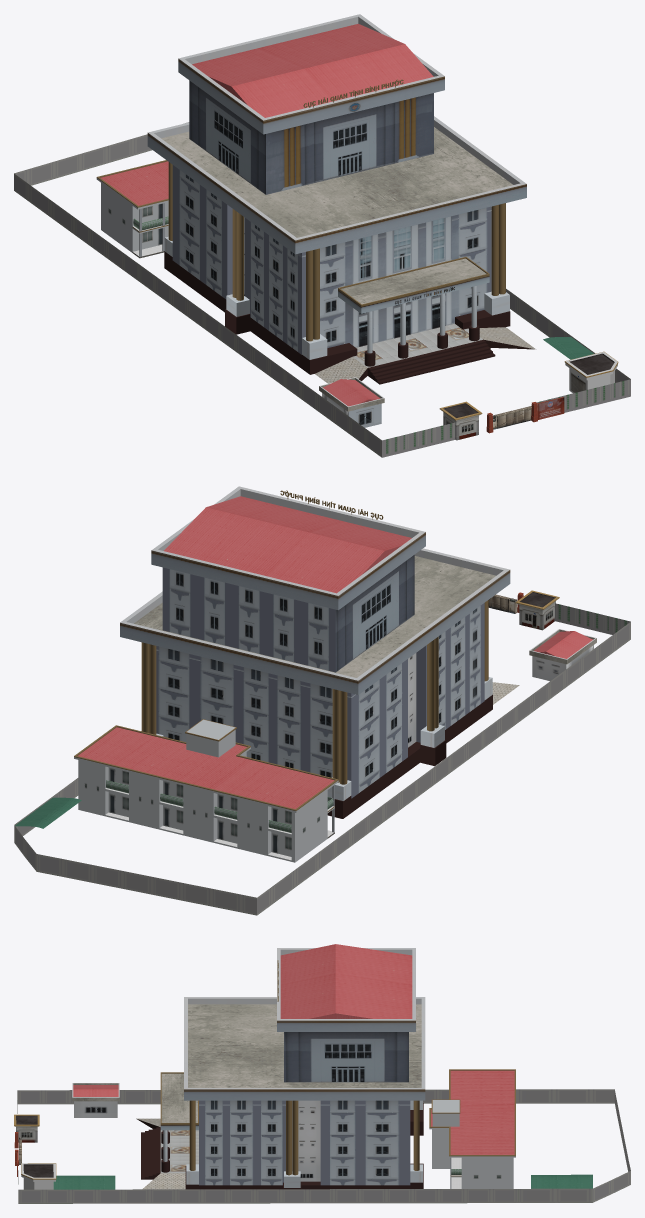
File: Cuc Hai Quan.glb
3 renders of one model, top to bottom at view 1: azimuth 30°, elevation 25°; view 2: azimuth 150°, elevation 25°; view 3: azimuth 270°, elevation 25°, orthographic. The views are drawn at different scales.
Visible parts, largest first — view 1: BPH070_2, BPH070_1, BPH070_3, BPH070_2.001; view 2: BPH070_2, BPH070_3, BPH070_1, BPH070_2.001, BPH070_1.001; view 3: BPH070_2, BPH070_1, BPH070_3, BPH070_2.001, BPH070_1.001.
Part boxes in pixels (bbox=[...]): BPH070_2: bbox=[147, 14, 535, 384]; BPH070_1: bbox=[14, 122, 630, 457]; BPH070_3: bbox=[96, 160, 168, 258]; BPH070_2.001: bbox=[319, 377, 384, 427]; BPH070_2: bbox=[120, 486, 519, 818]; BPH070_3: bbox=[74, 719, 338, 862]; BPH070_1: bbox=[14, 590, 630, 915]; BPH070_2.001: bbox=[529, 629, 596, 680]; BPH070_1.001: bbox=[15, 797, 81, 828]; BPH070_2: bbox=[136, 944, 425, 1189]; BPH070_1: bbox=[14, 1089, 630, 1203]; BPH070_3: bbox=[429, 1069, 515, 1188]; BPH070_2.001: bbox=[72, 1083, 119, 1117]; BPH070_1.001: bbox=[531, 1174, 592, 1188].
Size of the model in its own units: 37.96 by 31.51 by 98.58.
Materials: 3 (3 with a texture image).
